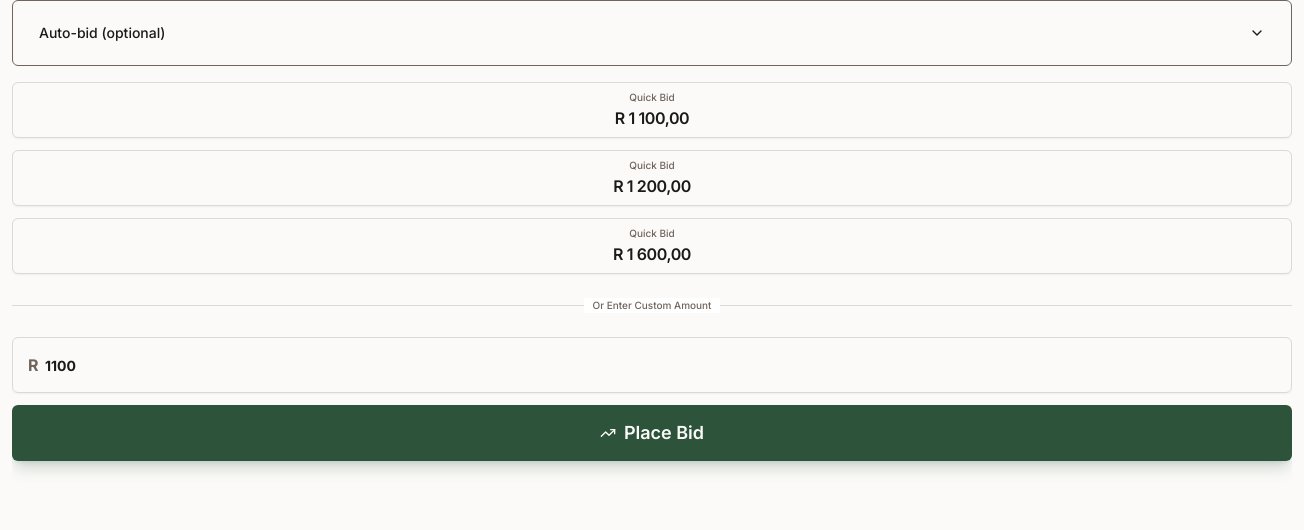
BidForm › renders proxy checkbox as a Radix checkbox with role=checkbox
Click the button with test id "auto-bid-toggle" at (102, 32), box [29,17,1275,49]
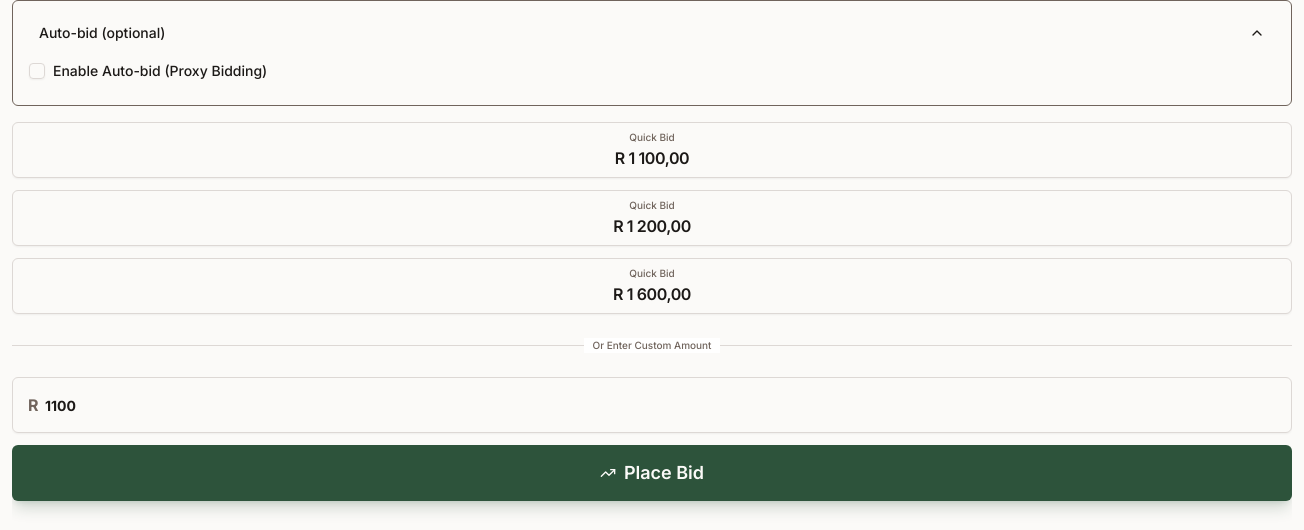
Now the checkbox named "enable auto-bid" is shown, box [29,63,45,79]
